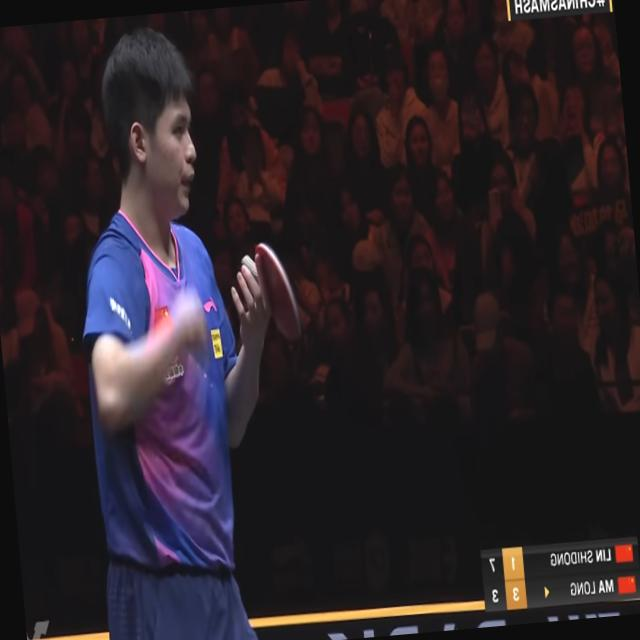TT Racket: (244, 225, 313, 354)
